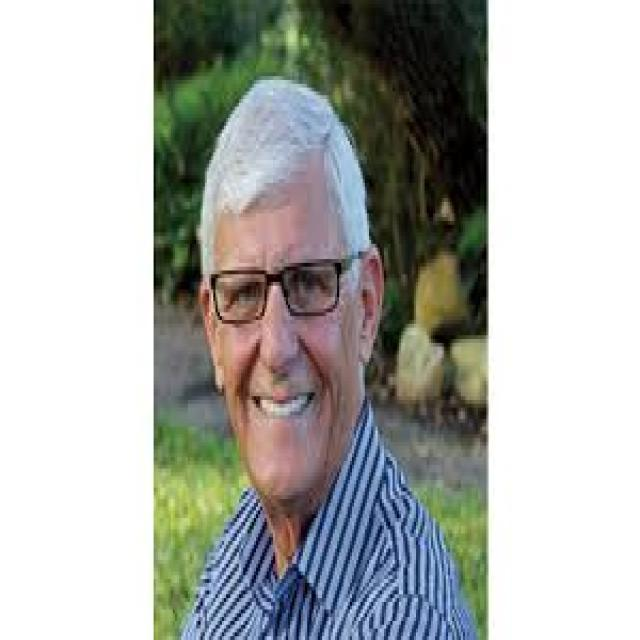normal_face: (196, 66, 366, 488)
